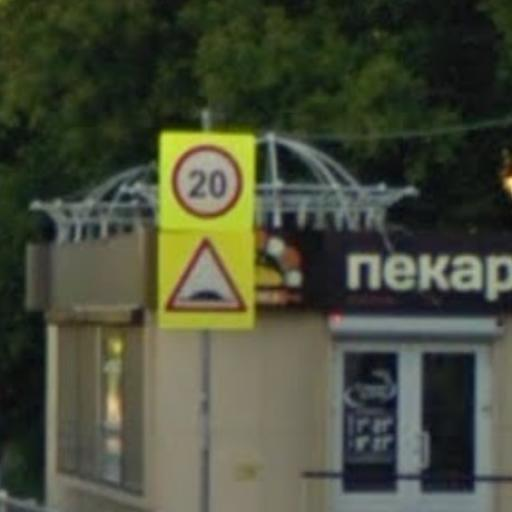traffic_sign: (160, 235, 250, 318), (170, 143, 248, 224)
